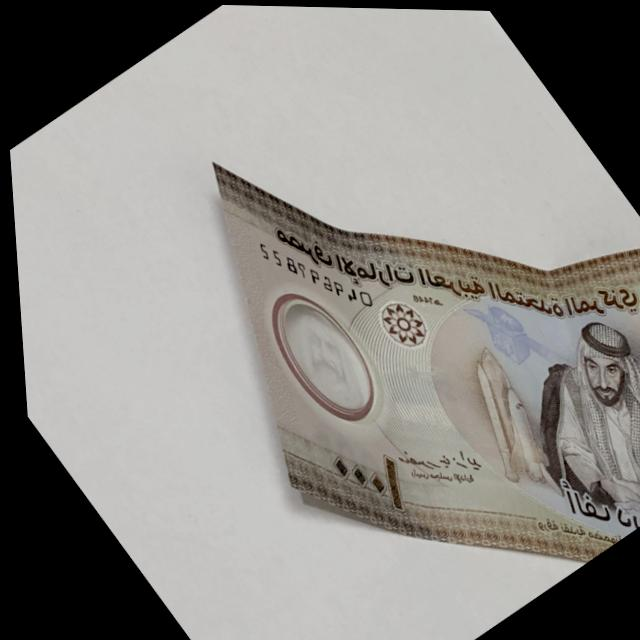1000_AED: (208, 157, 640, 565)
